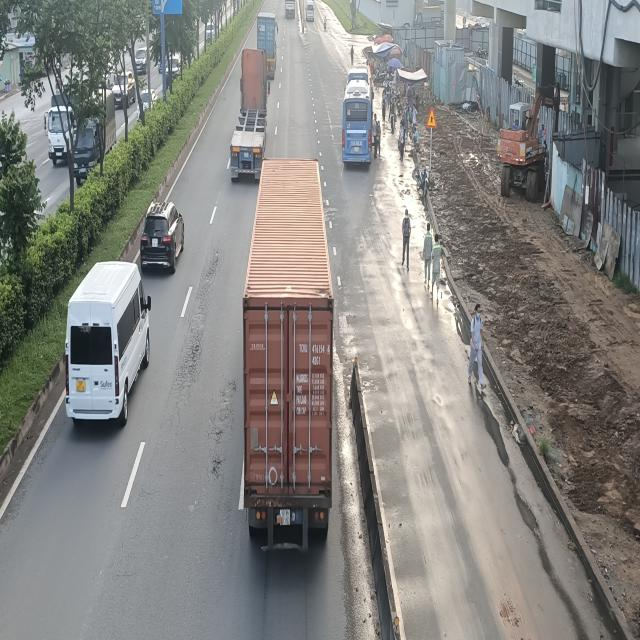car: (138, 202, 185, 276)
coach: (342, 82, 376, 168)
container: (239, 164, 337, 566), (229, 50, 271, 185), (257, 11, 278, 76)
van: (62, 262, 151, 430)
